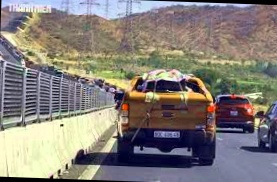Bien-so: (152, 130, 179, 138)
